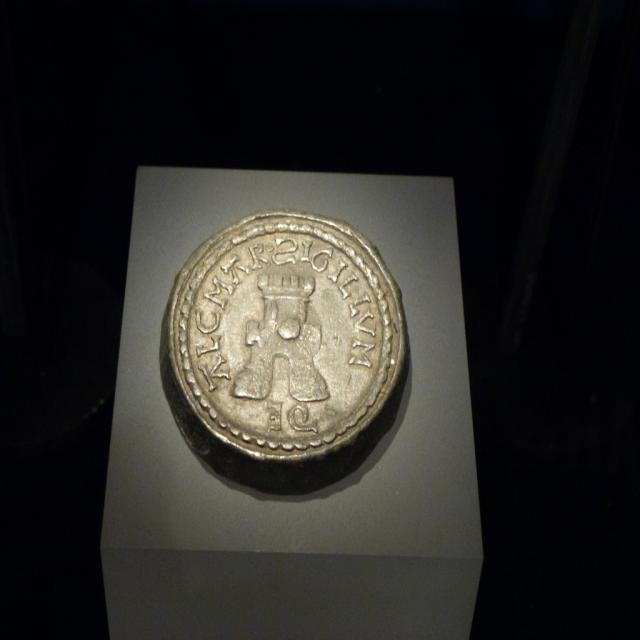Coin: (166, 210, 406, 460)
